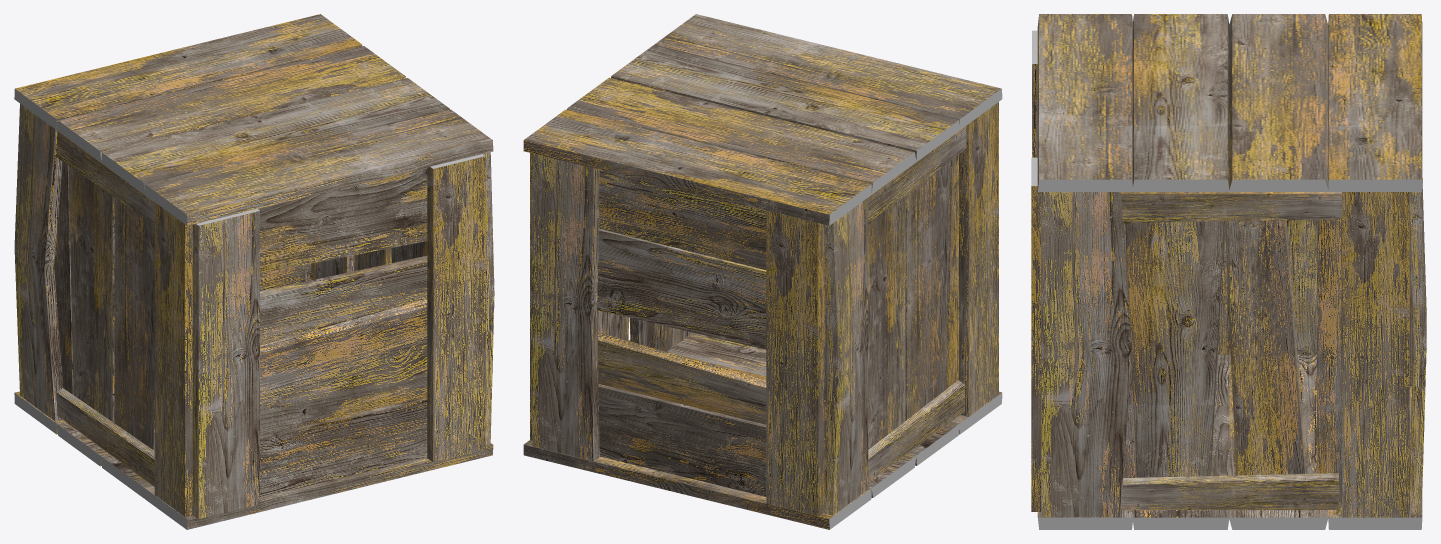
Rendered from Chest2.fbx.
The picture shows the model from 3 angles, left to right: view 1: azimuth 30°, elevation 25°; view 2: azimuth 150°, elevation 25°; view 3: azimuth 270°, elevation 25°; orthographic projection. The views are drawn at different scales.
Visible parts, largest first — view 1: polySurface694; view 2: polySurface694; view 3: polySurface694.
Part boxes in pixels (x1,y1,x2,y2): polySurface694: (14,14,494,529); polySurface694: (523,14,1002,529); polySurface694: (1031,14,1426,529).
Size of the model in its own units: 1.1 by 1.06 by 1.08.
